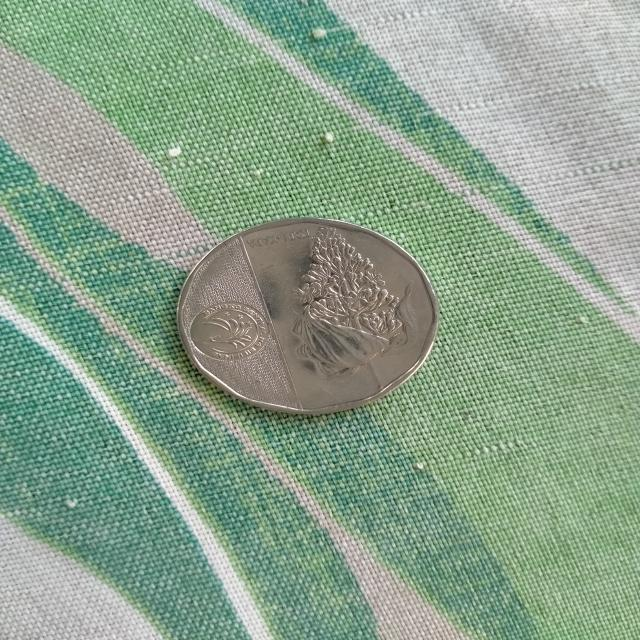10_New_Back: (276, 214, 409, 403)
